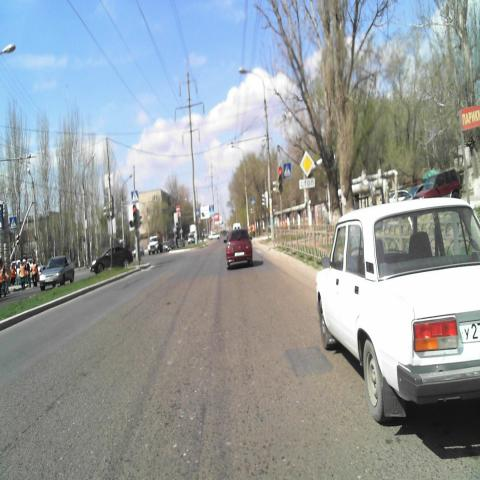2_1: (300, 150, 314, 176)
5_19_1: (284, 161, 292, 177), (131, 189, 139, 205), (10, 214, 17, 231)
6_16: (299, 178, 315, 189)
